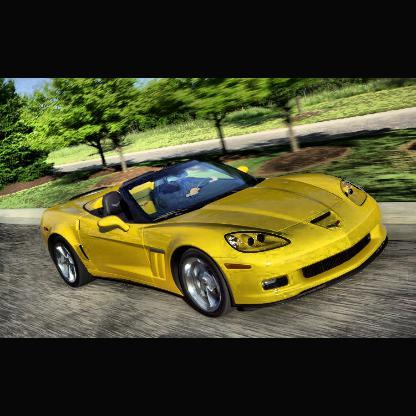Chevrolet Corvette Convertible 2012: (41, 156, 389, 319)
